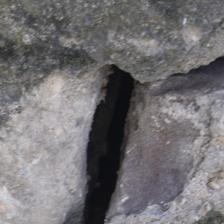Crack: (117, 111, 218, 217), (74, 67, 141, 218)
